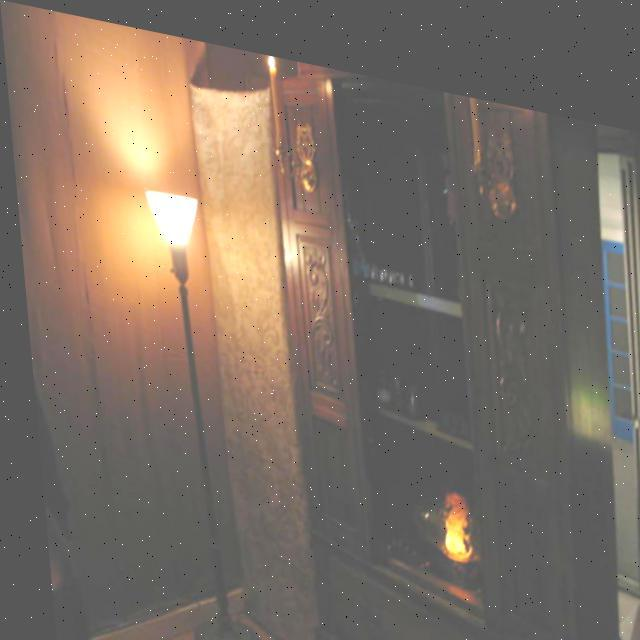Fire: (424, 476, 469, 549)
